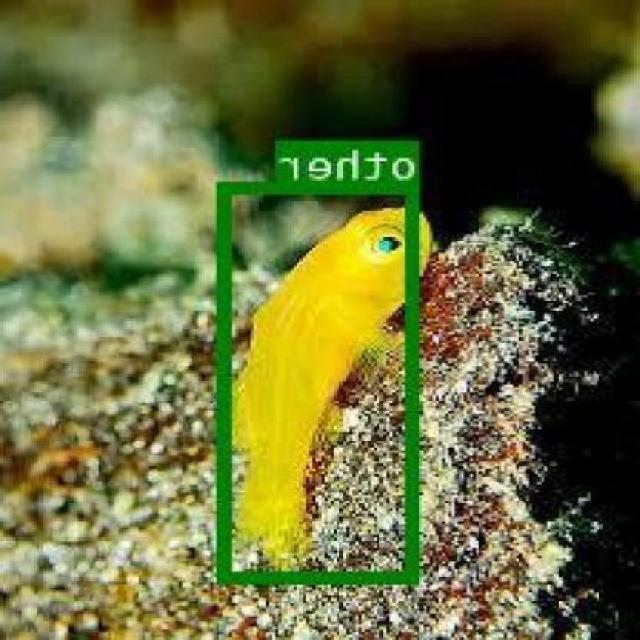other: (221, 179, 422, 579)
